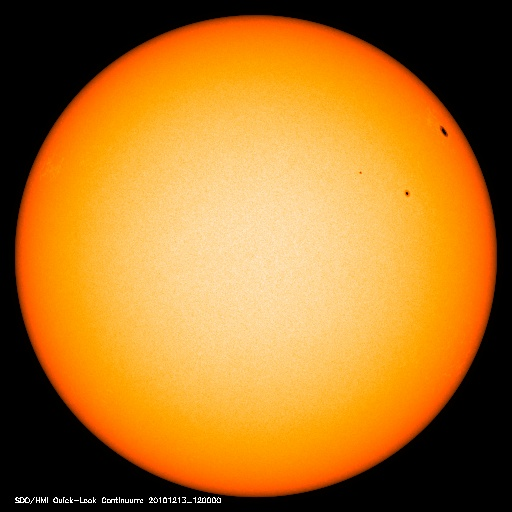sunspot: (428, 119, 462, 144), (393, 181, 418, 204), (347, 162, 372, 183)
